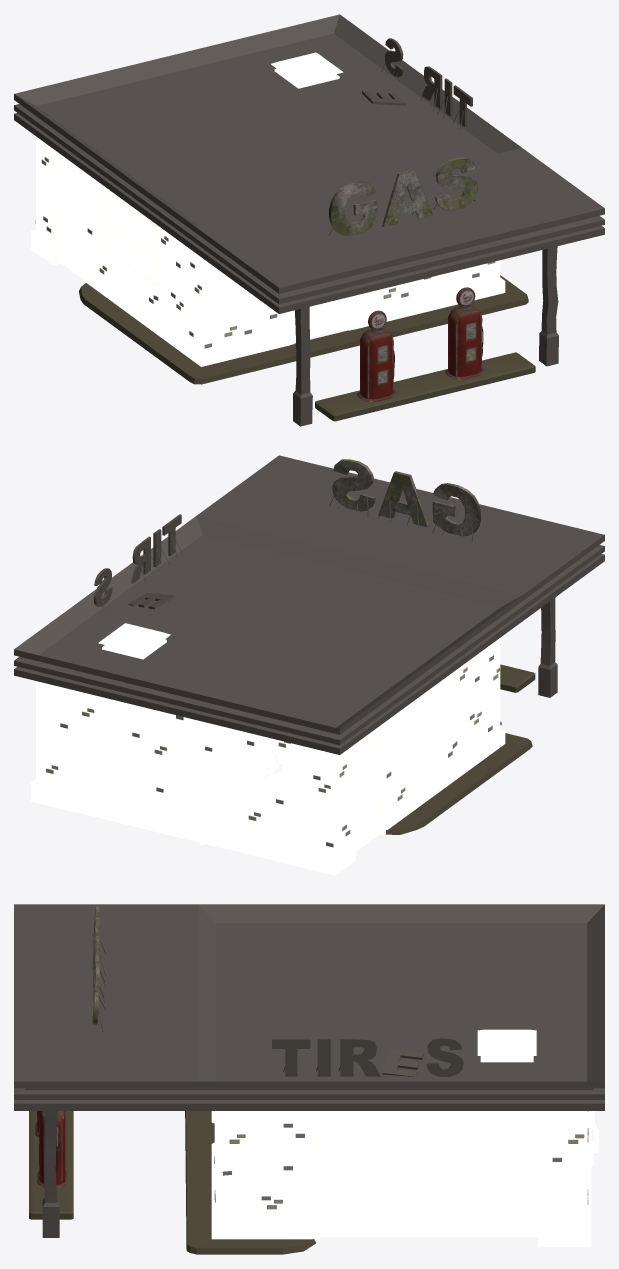
The model's file is roadside-gas.lod0.glb.
3 views of the same model, one above another, from view 1: azimuth 30°, elevation 25°; view 2: azimuth 150°, elevation 25°; view 3: azimuth 270°, elevation 25° (orthographic). The views are drawn at different scales.
Visible parts, largest first — view 1: Brick_A:Brick_Single_Geo_Single_Brick_0, Gas_Station_Model:Gas_Station_Body_main_shader_0, Gas_Station_Model:polySurface3_Building_Extra_Shader_0, GAS_Sign:Supports_GAS_SIgn_0, Gas_Pump:Body_Geo_Pump_Main_Shader_0, Gas_Pump:Pump_Top_Sign_Geo_pump_misc_shader_0; view 2: Brick_A:Brick_Single_Geo_Single_Brick_0, Gas_Station_Model:Gas_Station_Body_main_shader_0, Gas_Station_Model:polySurface3_Building_Extra_Shader_0, GAS_Sign:Supports_GAS_SIgn_0; view 3: Brick_A:Brick_Single_Geo_Single_Brick_0, Gas_Station_Model:polySurface3_Building_Extra_Shader_0, Gas_Station_Model:Gas_Station_Body_main_shader_0, Gas_Pump:Body_Geo_Pump_Main_Shader_0, GAS_Sign:Supports_GAS_SIgn_0.
Part boxes in pixels (box(x1,y1,x2,y2)): Brick_A:Brick_Single_Geo_Single_Brick_0: box(14, 14, 604, 426); Gas_Station_Model:Gas_Station_Body_main_shader_0: box(31, 136, 505, 366); Gas_Station_Model:polySurface3_Building_Extra_Shader_0: box(57, 52, 346, 341); GAS_Sign:Supports_GAS_SIgn_0: box(329, 157, 478, 235); Gas_Pump:Body_Geo_Pump_Main_Shader_0: box(357, 305, 484, 402); Gas_Pump:Pump_Top_Sign_Geo_pump_misc_shader_0: box(368, 287, 483, 378); Brick_A:Brick_Single_Geo_Single_Brick_0: box(14, 455, 604, 847); Gas_Station_Model:Gas_Station_Body_main_shader_0: box(31, 638, 505, 875); Gas_Station_Model:polySurface3_Building_Extra_Shader_0: box(98, 623, 383, 850); GAS_Sign:Supports_GAS_SIgn_0: box(329, 459, 481, 542); Brick_A:Brick_Single_Geo_Single_Brick_0: box(14, 904, 604, 1254); Gas_Station_Model:polySurface3_Building_Extra_Shader_0: box(320, 1029, 598, 1237); Gas_Station_Model:Gas_Station_Body_main_shader_0: box(211, 1111, 591, 1247); Gas_Pump:Body_Geo_Pump_Main_Shader_0: box(35, 1111, 66, 1187); GAS_Sign:Supports_GAS_SIgn_0: box(92, 906, 105, 1032).
Bounding box in the file's own units: 12.84 × 7.47 × 17.41.
6 materials, 5 textured.
